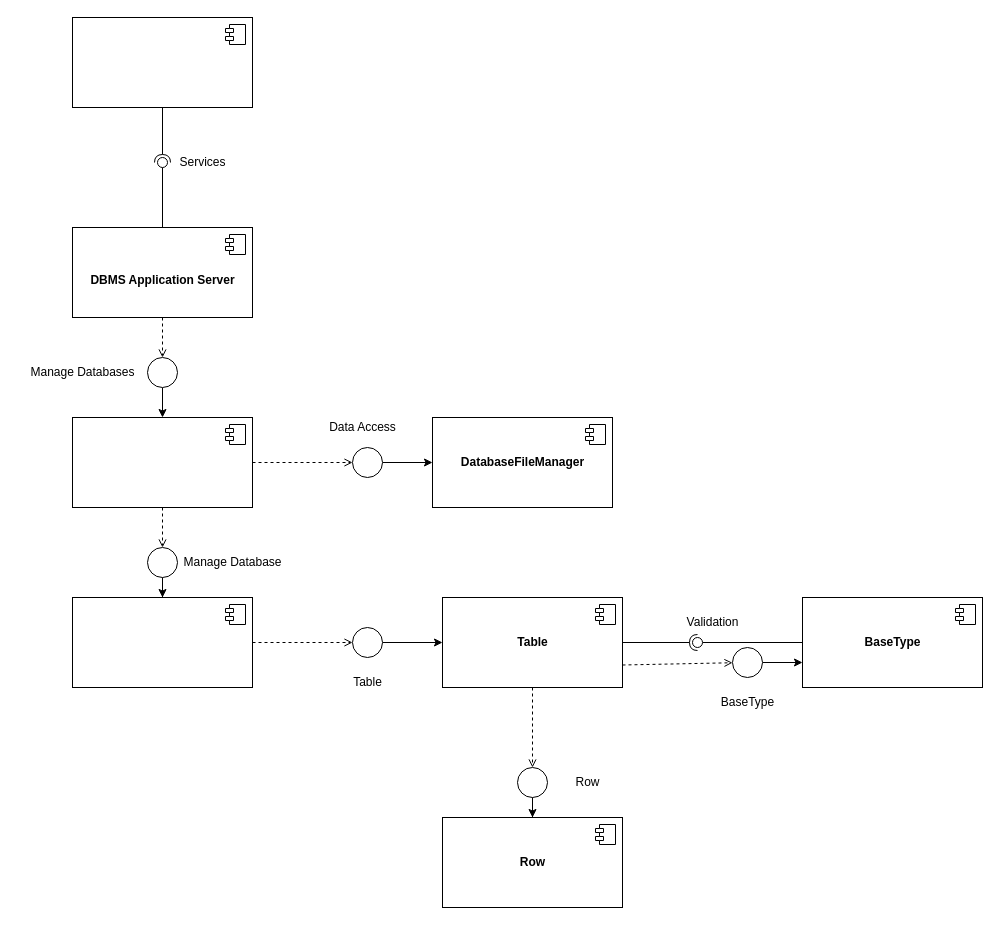
Image size: 1000x925. Some labels were removed from this diagram. The shapes that lost their labels are listed below. From the top down, each one's centre as x and y in pixels, then its label:
At pixel 162 62: "«UI» DBMS Application Client".
At pixel 162 462: "DBManager".
At pixel 162 642: "Database".
